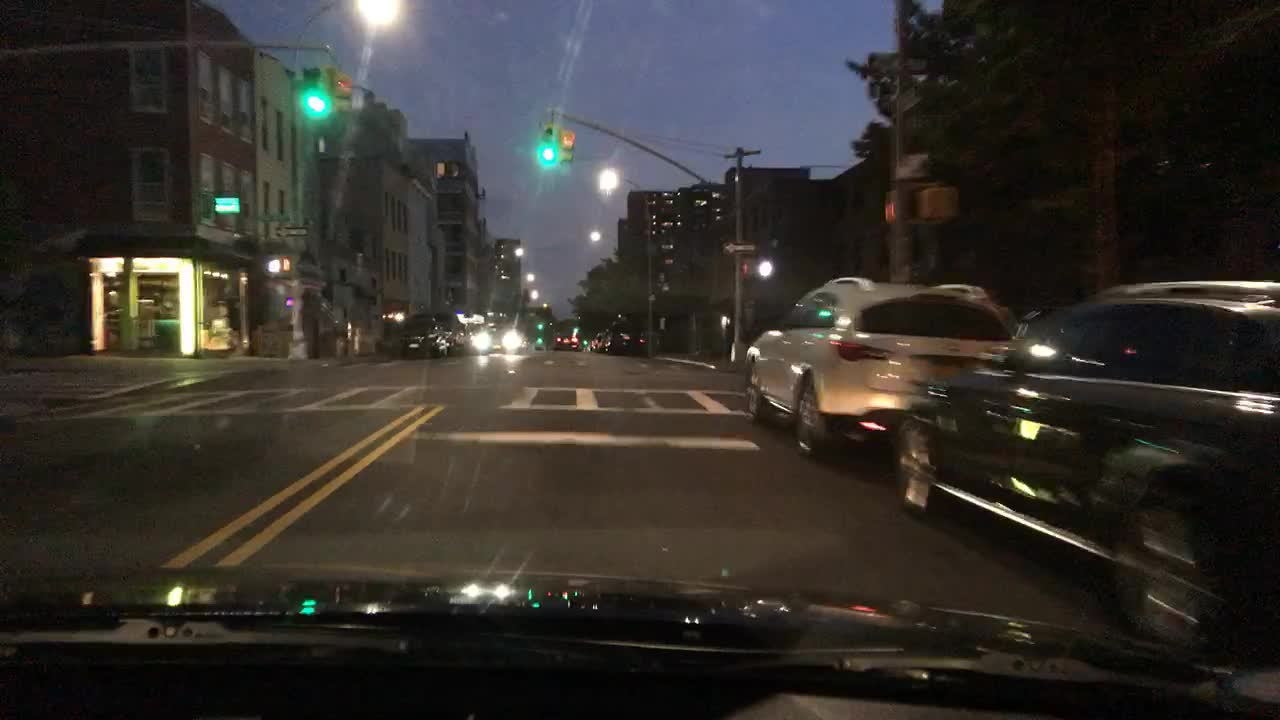car: (885, 275, 1278, 658), (740, 271, 1022, 466), (396, 309, 462, 359), (469, 321, 528, 361), (609, 324, 661, 356), (451, 322, 475, 353), (553, 330, 585, 351), (588, 330, 606, 353), (532, 340, 549, 351)
traffic light: (916, 180, 961, 222), (304, 67, 330, 120), (327, 74, 354, 116), (533, 124, 557, 170), (877, 190, 903, 230), (557, 125, 577, 172), (751, 251, 779, 280), (265, 254, 278, 275), (280, 256, 293, 274), (535, 319, 548, 335)
traffic sign: (896, 149, 934, 183), (722, 238, 761, 256), (272, 222, 304, 238)
